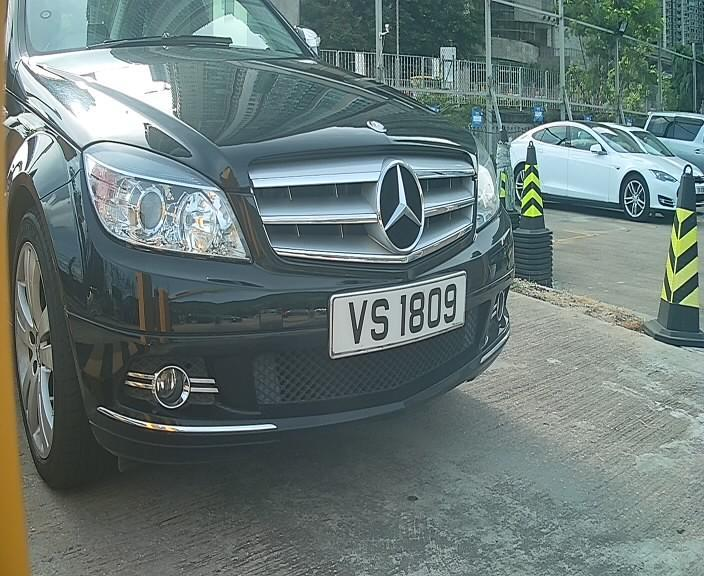privatecar: (13, 31, 535, 476)
